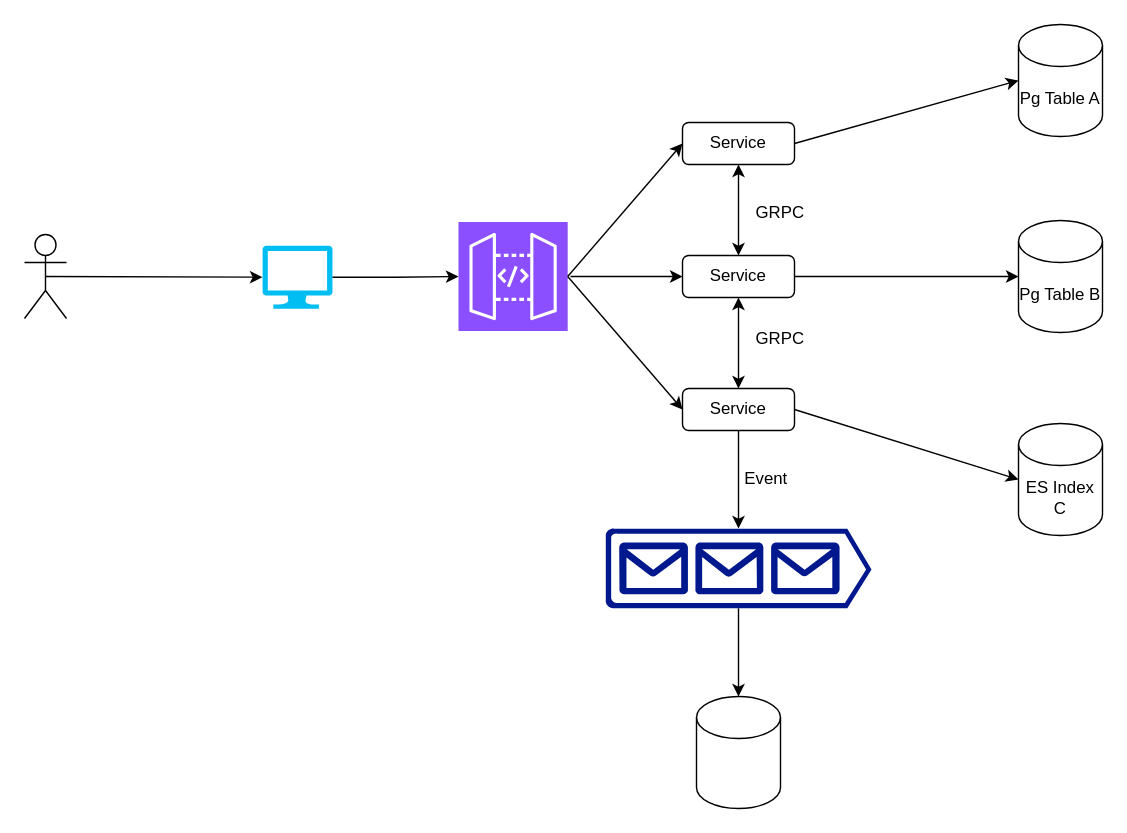
The diagram is 1127 pixels wide and 833 high, and some of its shapes have lost their labels. Here are the shapes that lost their labels. From the top down, the centre of each, then its label:
At [44,275]: "Actor".
At [737,751]: "ES".
